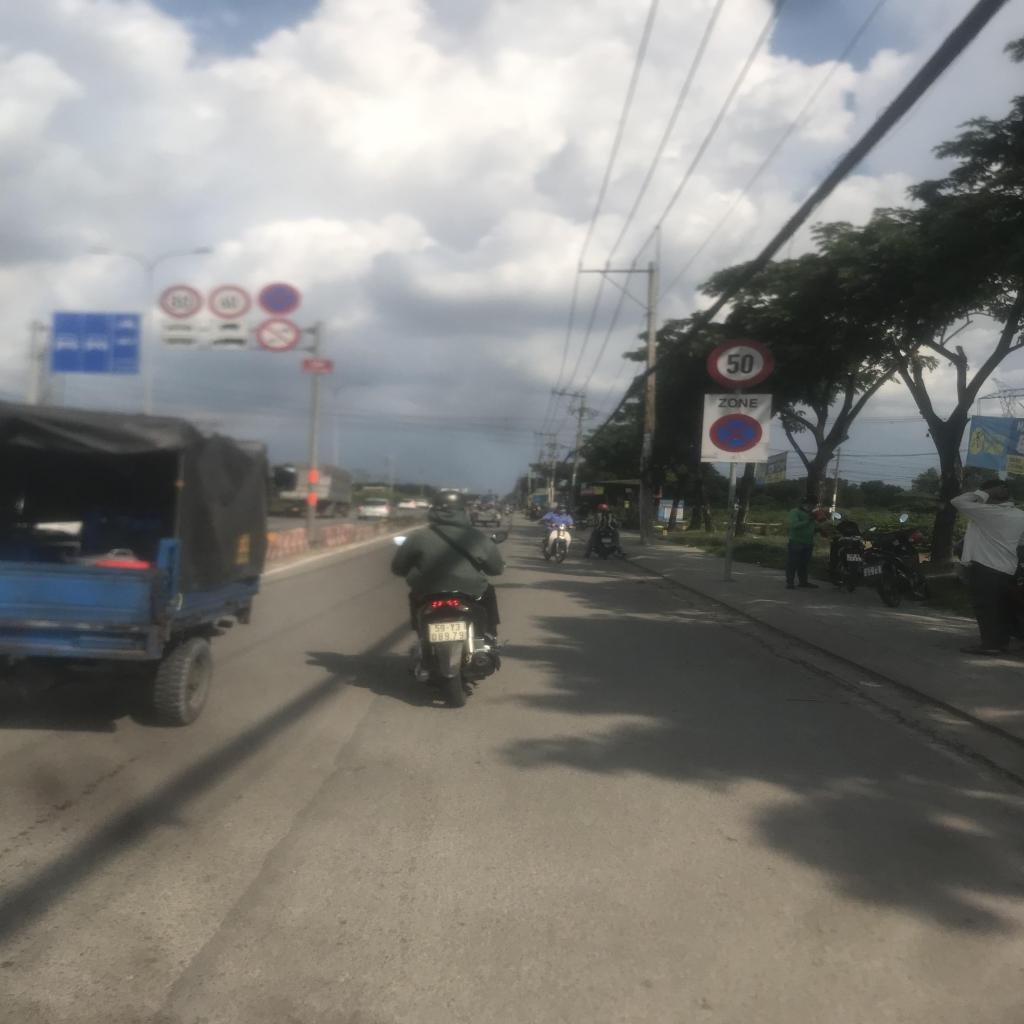cam_dung_xe_va_do_xe: (708, 414, 763, 452), (258, 282, 300, 315)
cam_xe_2_banh_va_xe_3_banh_co_dong_co: (256, 318, 302, 352)
khac: (161, 322, 197, 334), (212, 336, 248, 348), (213, 321, 246, 334), (162, 335, 196, 347)
lan_duong_cho_tung_xe_theo_vach_ke_duong: (51, 313, 139, 374)
toc_do_toi_da_50: (707, 339, 774, 390)
toc_do_toi_da_60: (207, 285, 251, 320)
toc_do_toi_da_80: (160, 286, 203, 319)
